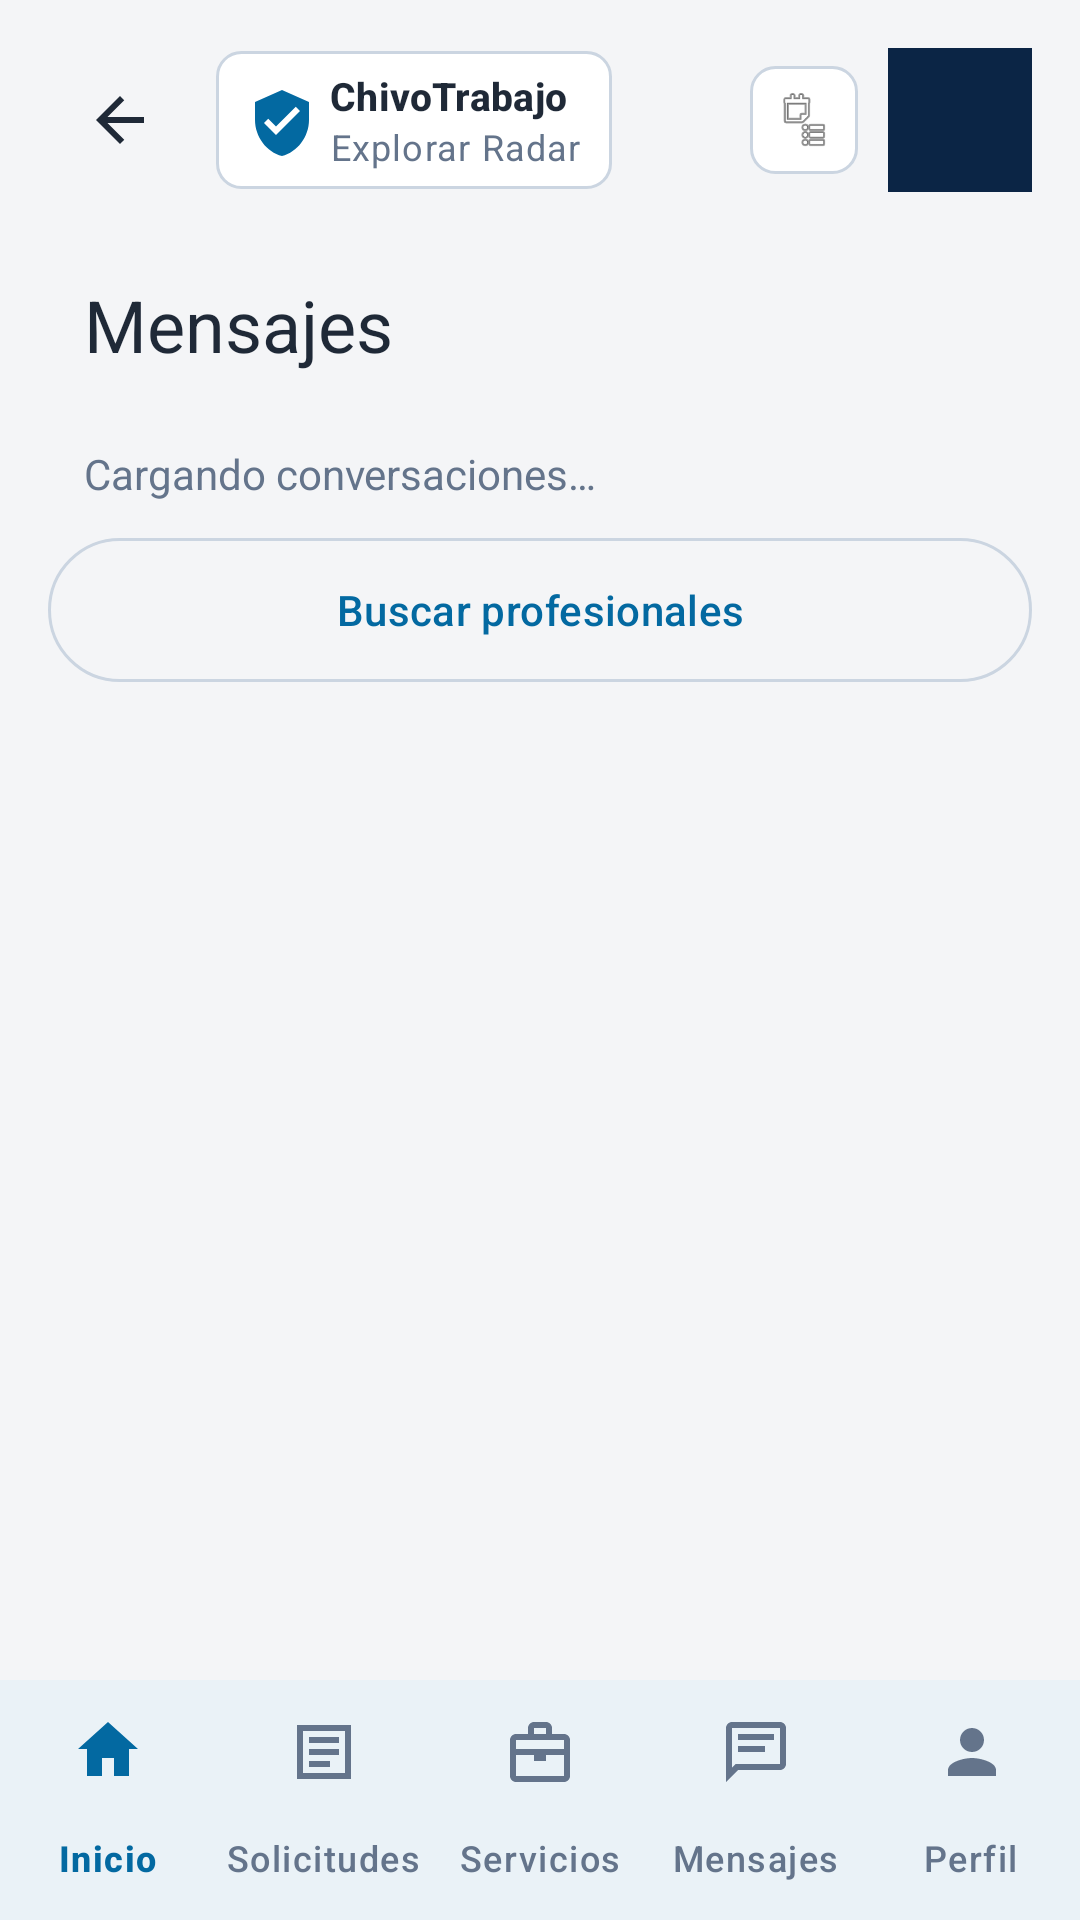

Icons on this 1080x1920 Android screen, each with its box as (x1, y1, x2, y2):
Regresar: (96, 96, 144, 144)
shield: (255, 90, 309, 156)
